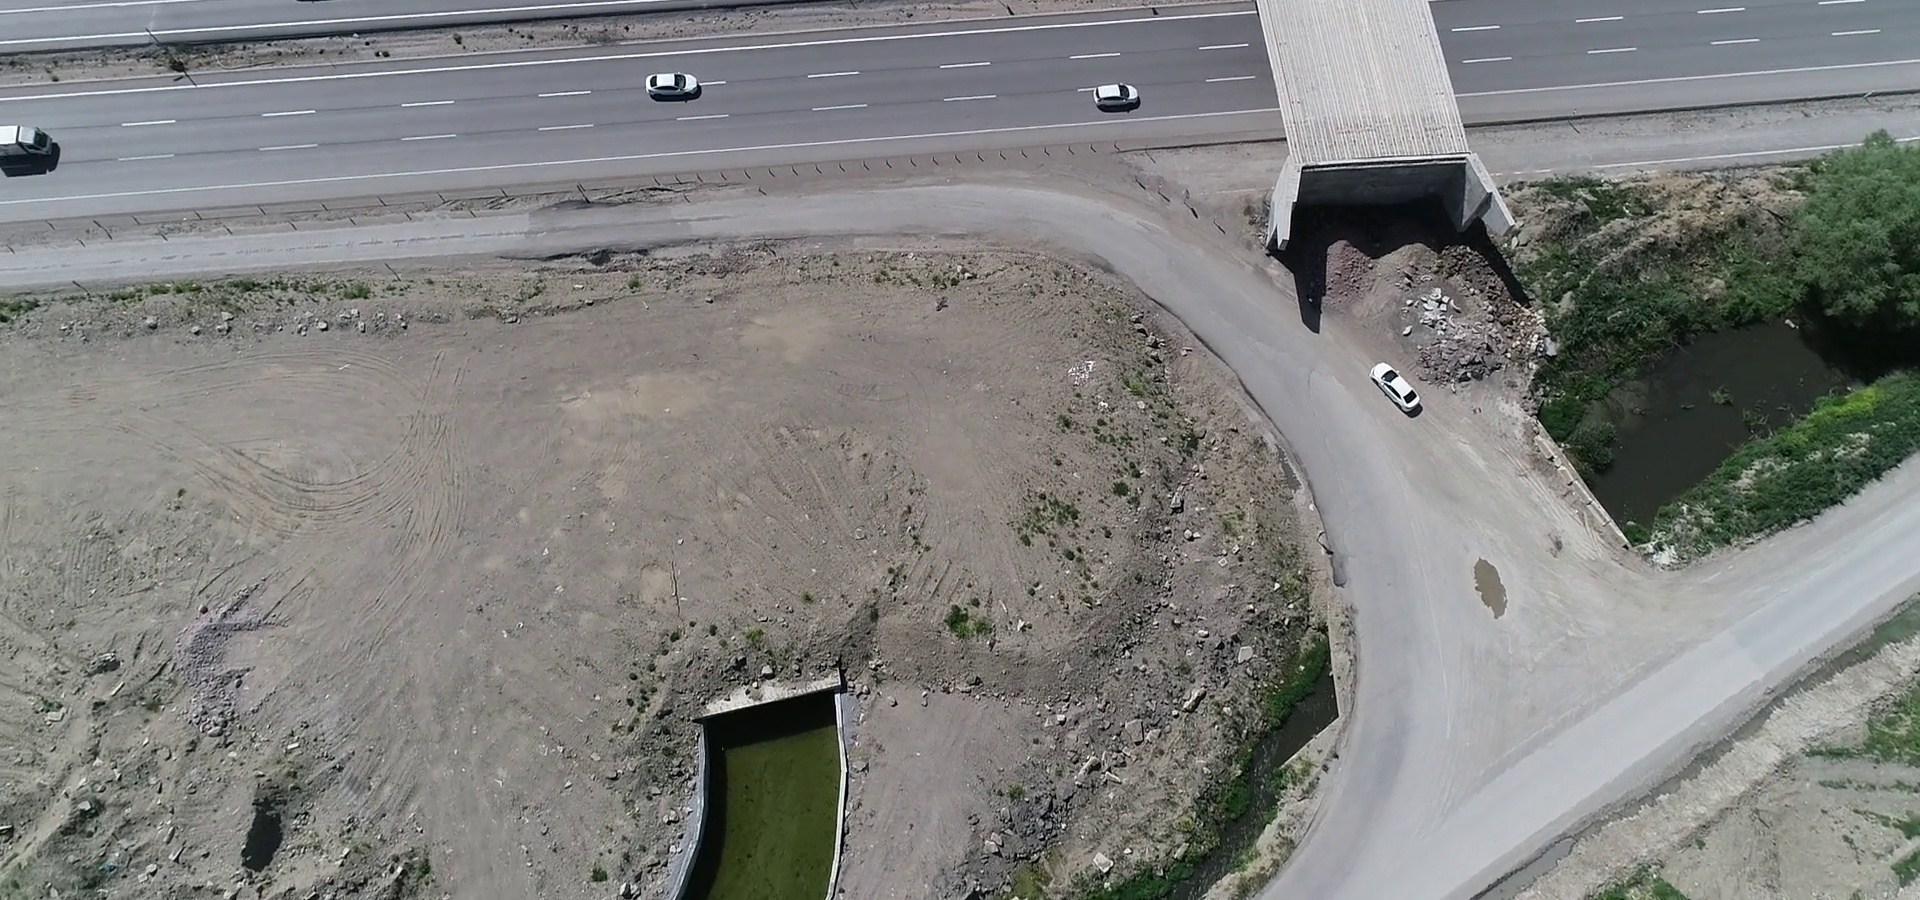arac: (1371, 353, 1427, 424), (2, 119, 62, 169), (643, 69, 700, 105), (1090, 75, 1142, 110)
